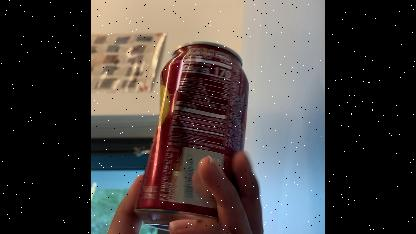Can: (130, 39, 257, 234)
